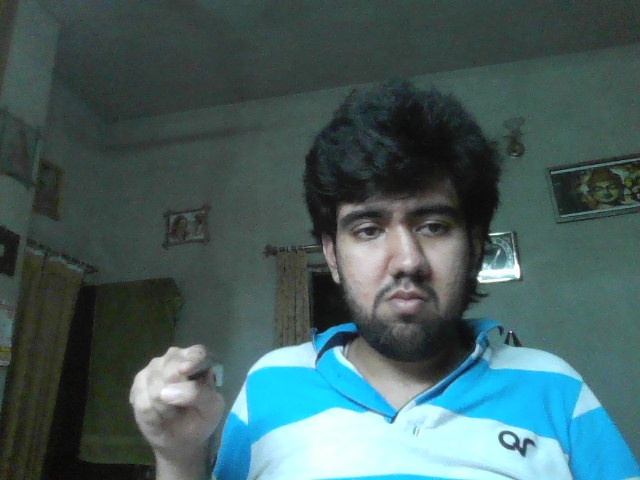You: (130, 344, 224, 459)
